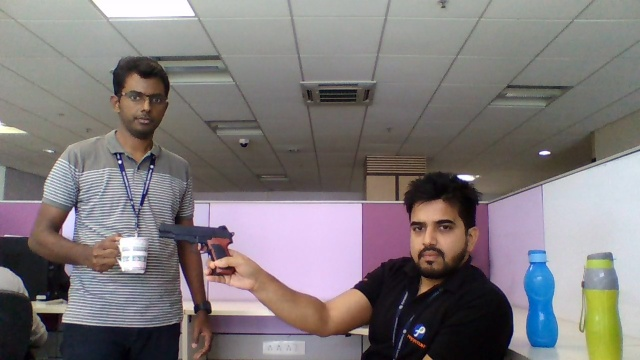gun: (158, 221, 234, 254)
